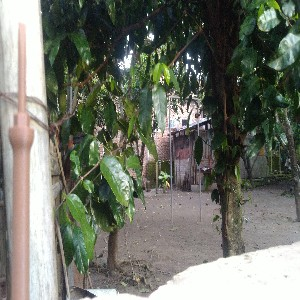obeng: (6, 23, 36, 300)
